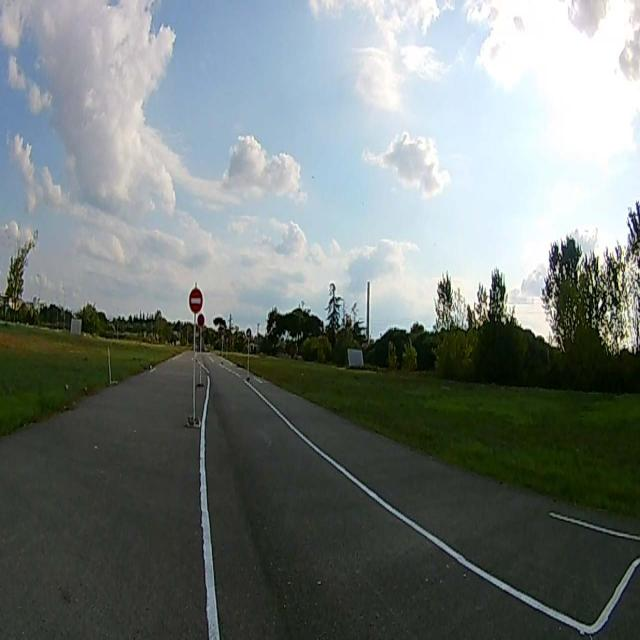girisyok: (188, 286, 202, 312)
